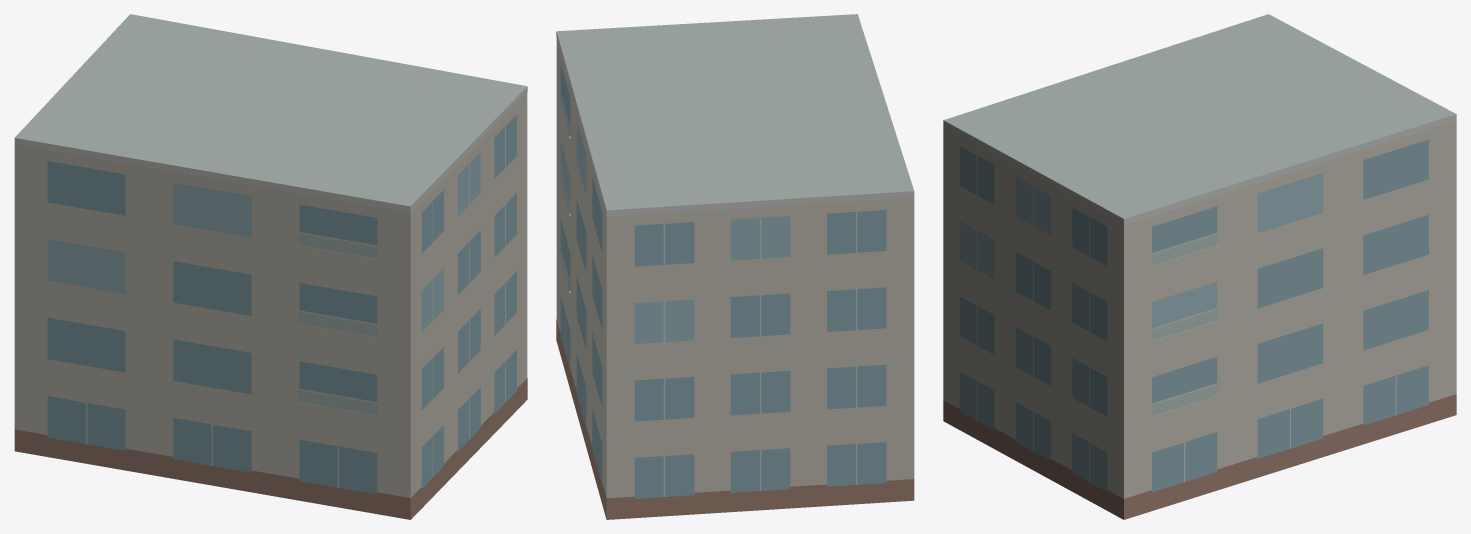
Rendered from survey-upis-32605852.glb.
3 renders of one model, left to right at view 1: azimuth 30°, elevation 25°; view 2: azimuth 150°, elevation 25°; view 3: azimuth 270°, elevation 25°, orthographic. The views are drawn at different scales.
Visible parts, largest first — view 1: survey-upis-32605852.tmp; view 2: survey-upis-32605852.tmp; view 3: survey-upis-32605852.tmp.
Boxes of the visible parts, x1,y1,x2,y2 form: survey-upis-32605852.tmp: (14, 14, 527, 519); survey-upis-32605852.tmp: (556, 14, 914, 519); survey-upis-32605852.tmp: (943, 14, 1456, 519).
Bounding box in the file's own units: 17.83 × 12.2 × 18.87.
